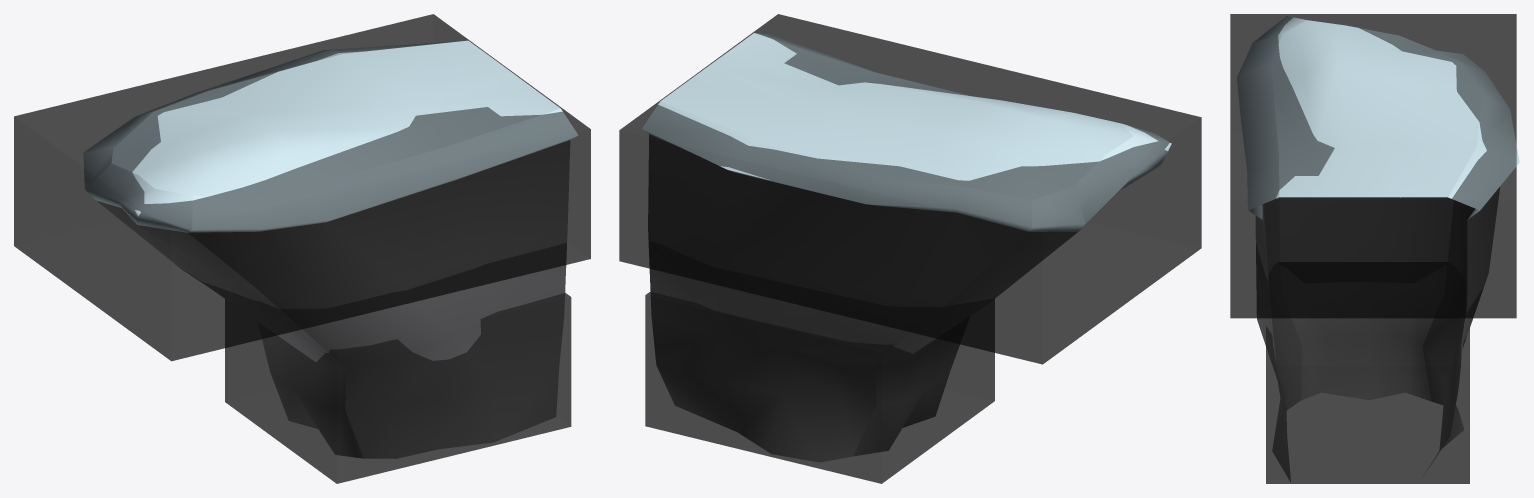
The model's file is Cliffside_3.fbx.
The picture shows the model from 3 angles, left to right: view 1: azimuth 30°, elevation 25°; view 2: azimuth 150°, elevation 25°; view 3: azimuth 270°, elevation 25°; orthographic projection. The views are drawn at different scales.
Parts seen in each view (by area): view 1: Cliffside_3, Cliffside_3_BBox, Cliffside_3_BBox1; view 2: Cliffside_3, Cliffside_3_BBox, Cliffside_3_BBox1; view 3: Cliffside_3, Cliffside_3_BBox, Cliffside_3_BBox1.
Part boxes in pixels (<box>): Cliffside_3: <box>83,40,578,458</box>; Cliffside_3_BBox: <box>14,14,590,361</box>; Cliffside_3_BBox1: <box>225,293,571,483</box>; Cliffside_3: <box>642,33,1171,462</box>; Cliffside_3_BBox: <box>619,14,1201,364</box>; Cliffside_3_BBox1: <box>645,291,994,483</box>; Cliffside_3: <box>1237,16,1519,482</box>; Cliffside_3_BBox: <box>1230,14,1516,318</box>; Cliffside_3_BBox1: <box>1266,262,1469,483</box>.
Size of the model in its own units: 32.79 by 24.58 by 21.46.
